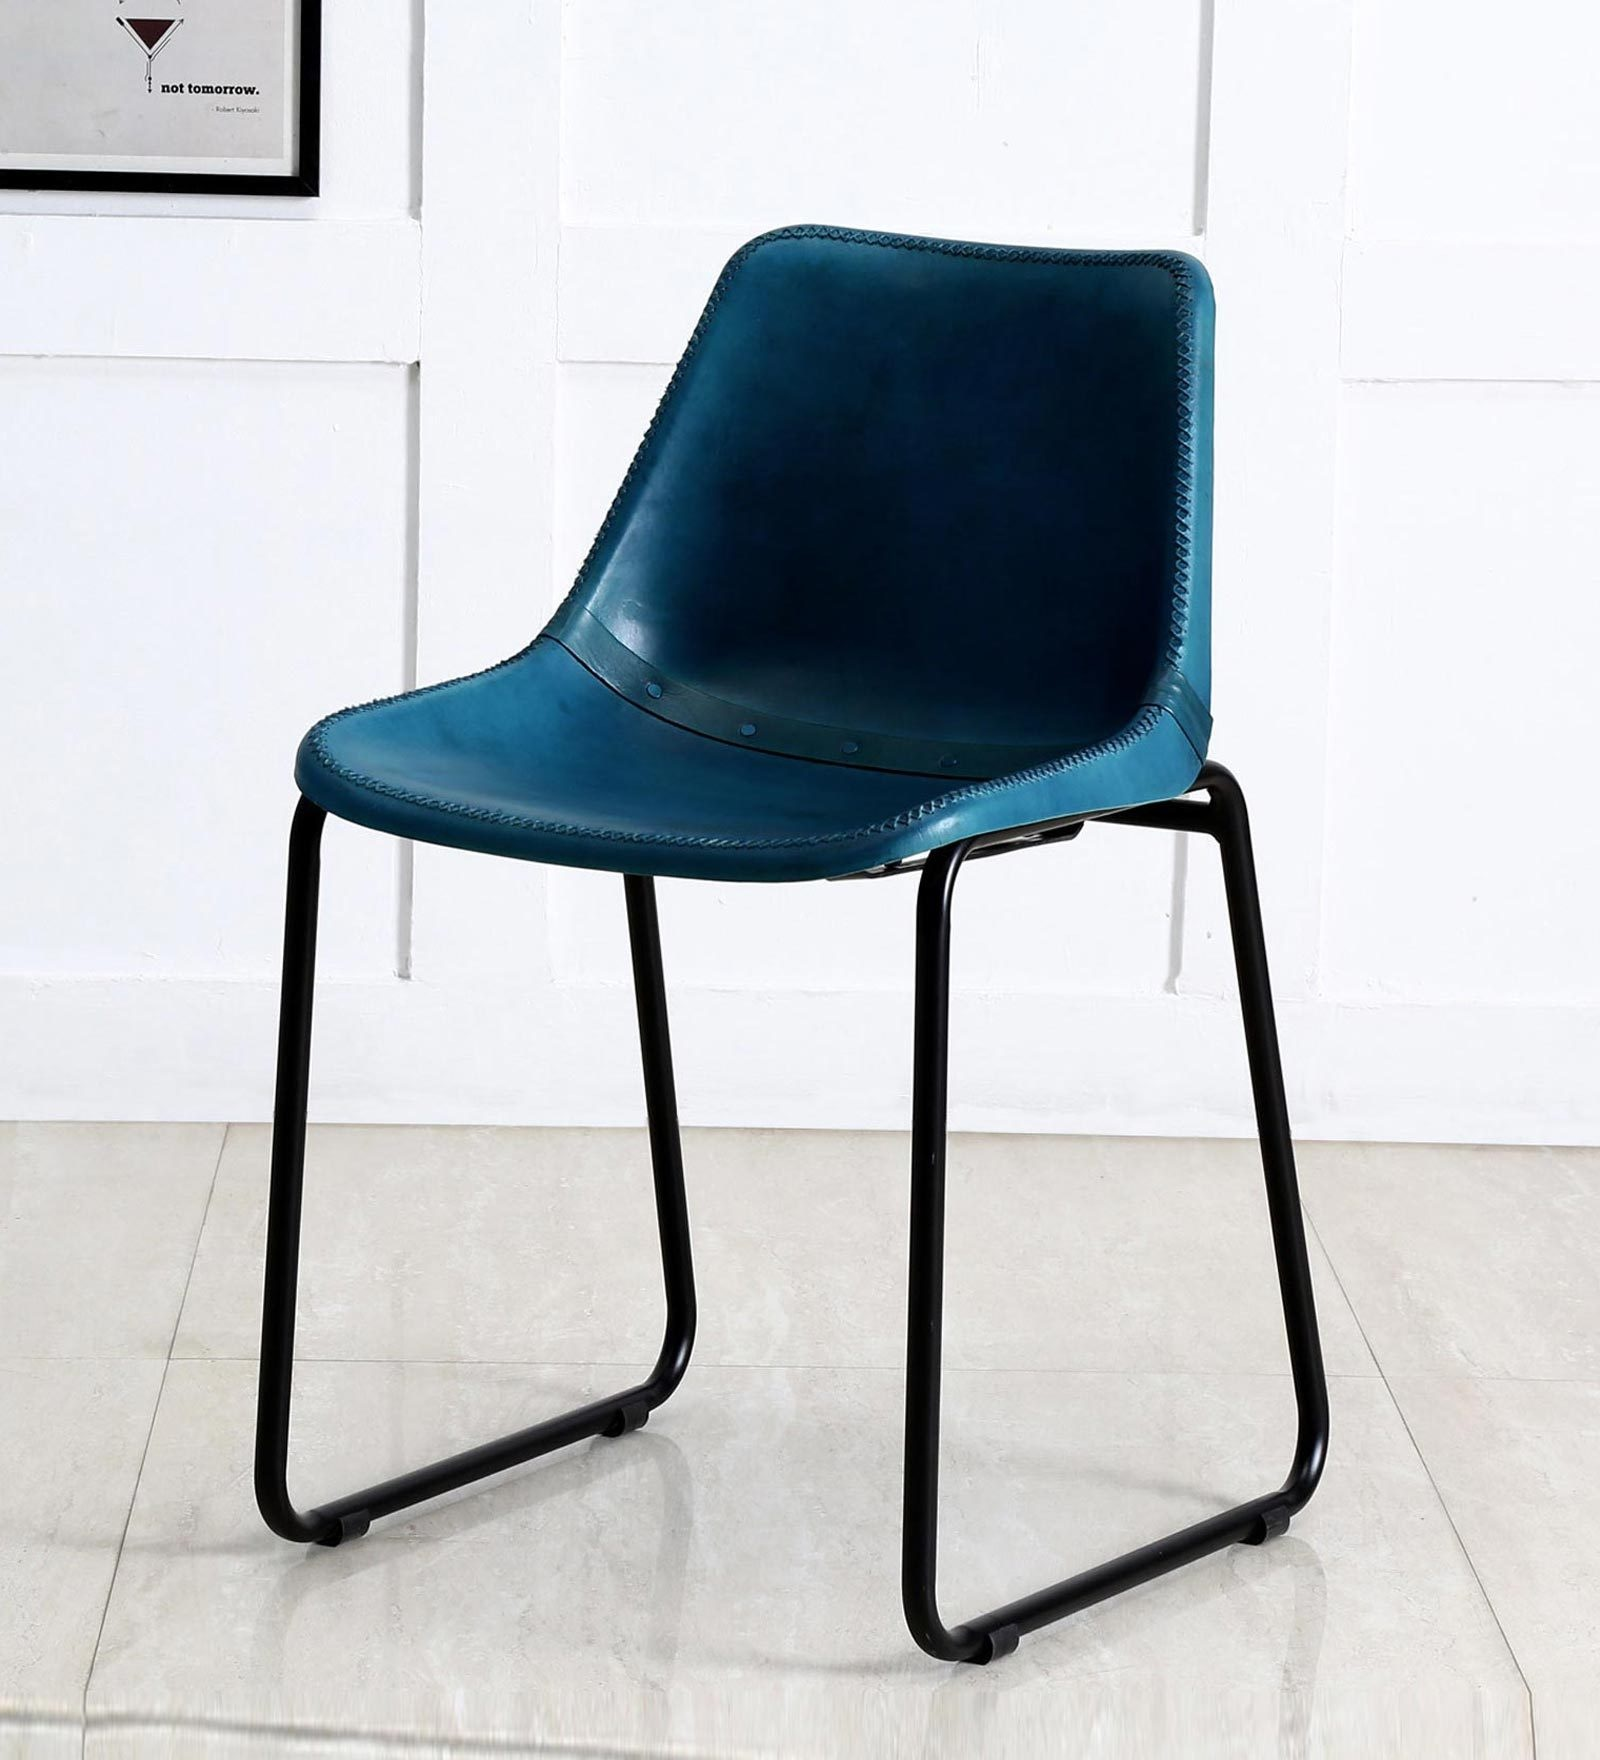Medina Ink Blue Color Leather Accent Chair by Bohemiana: (234, 199, 1343, 1666)
